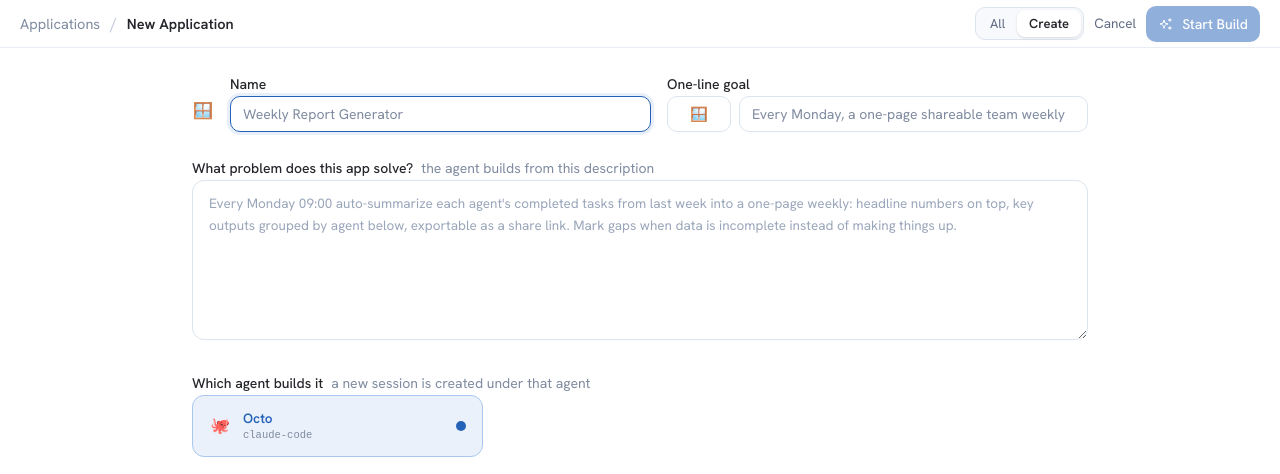
Test: ApplicationFormPage › keeps Start Build disabled until there's a name and a brief
Check: the button "Start Build" is disabled, box x1=1146 y1=6 x2=1260 y2=42
Type "Tracker" into the field labelled "Name" at (440,114), box x1=230 y1=96 x2=651 y2=132
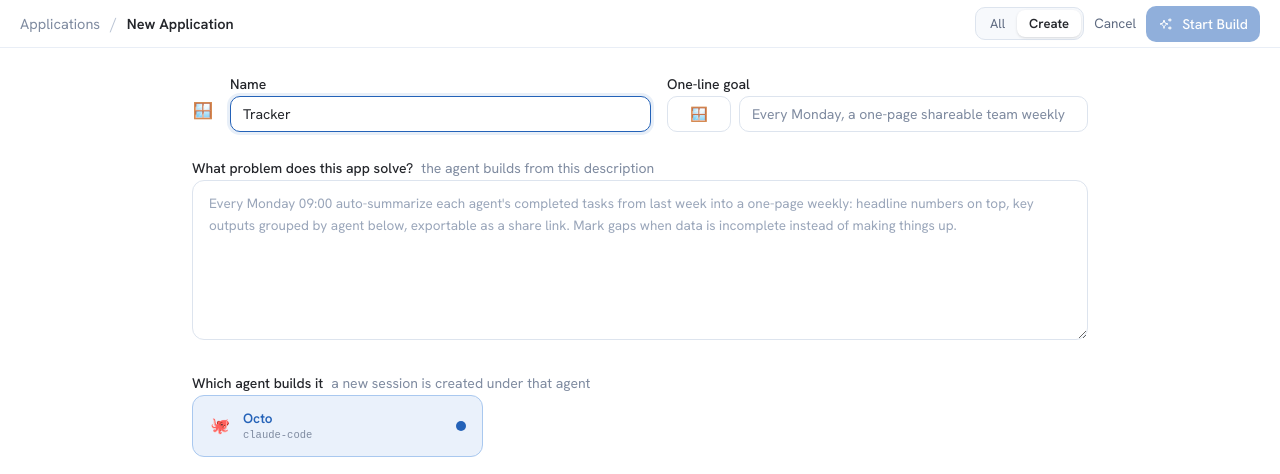
Check: the button "Start Build" is disabled, box x1=1146 y1=6 x2=1260 y2=42
Replace the text in the text box labelled "What problem" with "track things" at (640,260), box x1=192 y1=180 x2=1088 y2=340
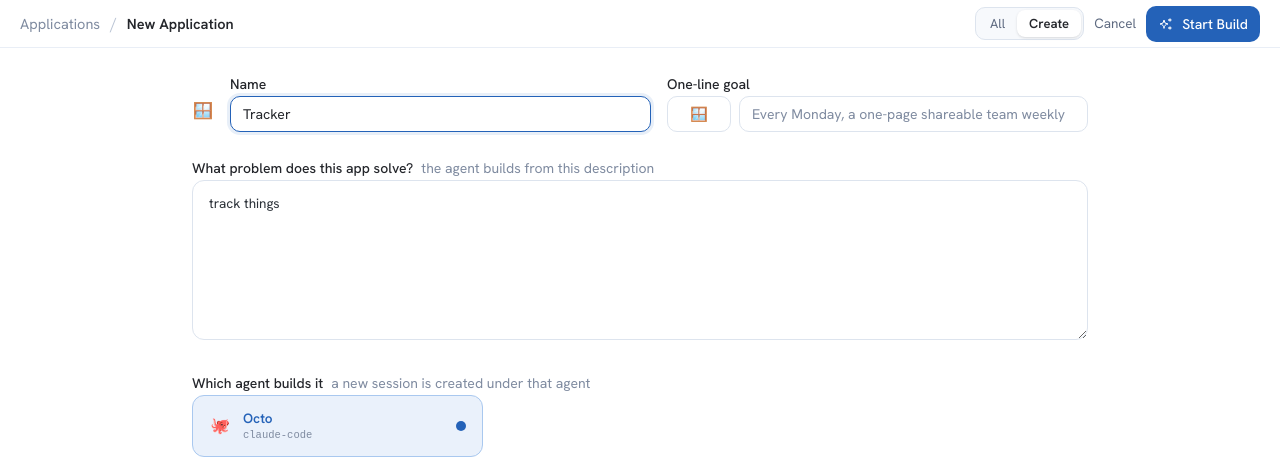
Check: the button "Start Build" is enabled, box x1=1146 y1=6 x2=1260 y2=42
